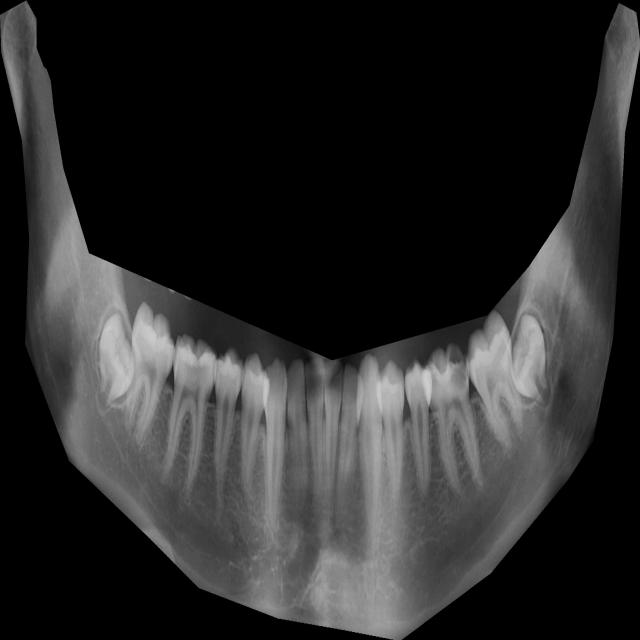mandibula: (0, 0, 640, 640)
